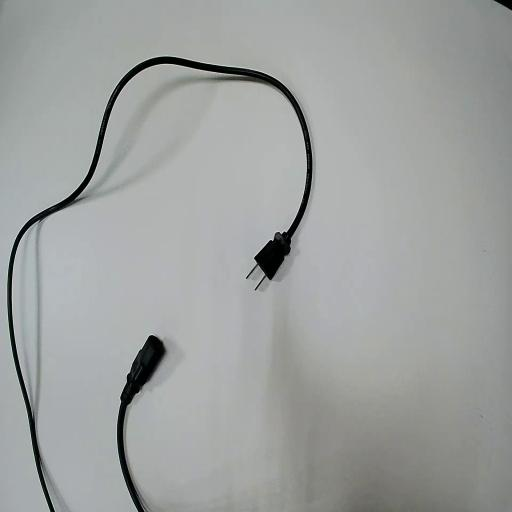wire: (9, 57, 311, 511), (118, 336, 164, 511)
